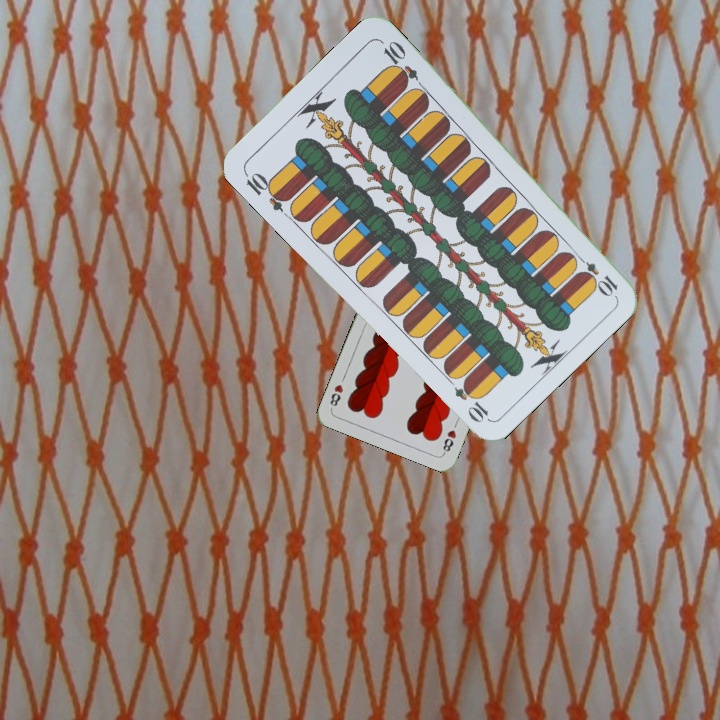E10: (240, 167, 292, 214), (571, 250, 621, 298)
H8: (439, 425, 459, 456)
